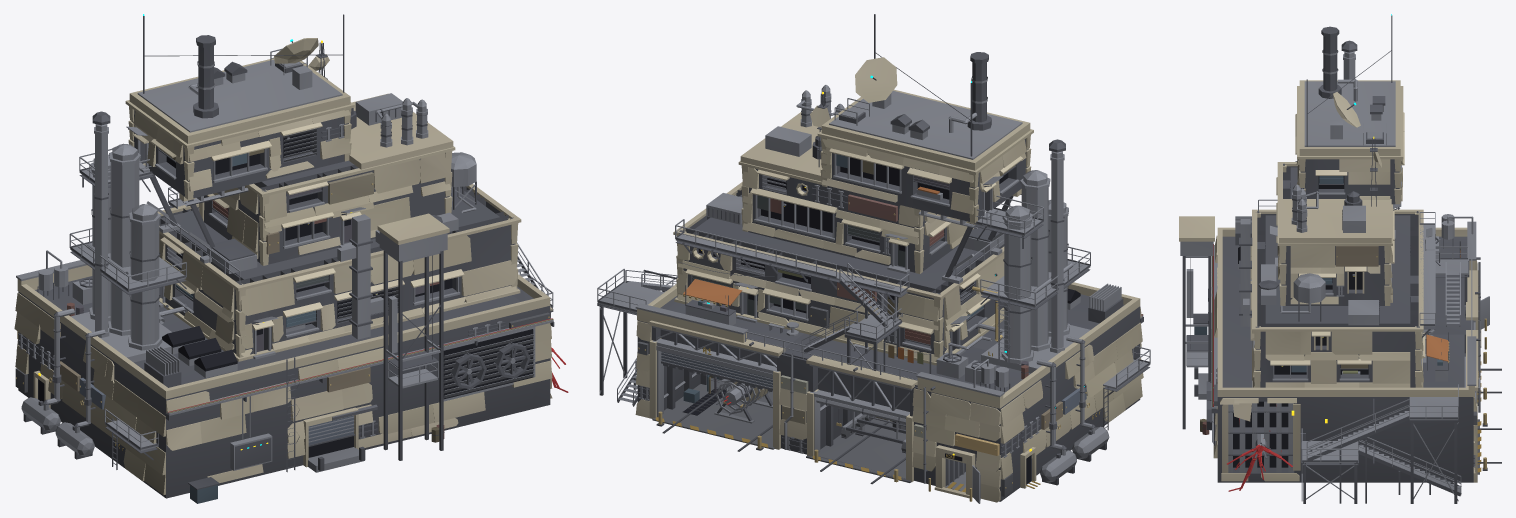
Rendered from habitation_workshop.glb.
3 views of the same model, side by side, from view 1: azimuth 30°, elevation 25°; view 2: azimuth 150°, elevation 25°; view 3: azimuth 270°, elevation 25° (orthographic). The views are drawn at different scales.
Visible parts, largest first — view 1: habitation_workshop; view 2: habitation_workshop; view 3: habitation_workshop.
Boxes of the visible parts, x1,y1,x2,y2 form: habitation_workshop: [14, 14, 568, 503]; habitation_workshop: [597, 14, 1150, 503]; habitation_workshop: [1179, 14, 1501, 503].
Bounding box in the file's own units: 36.25 × 29.35 × 25.2.
